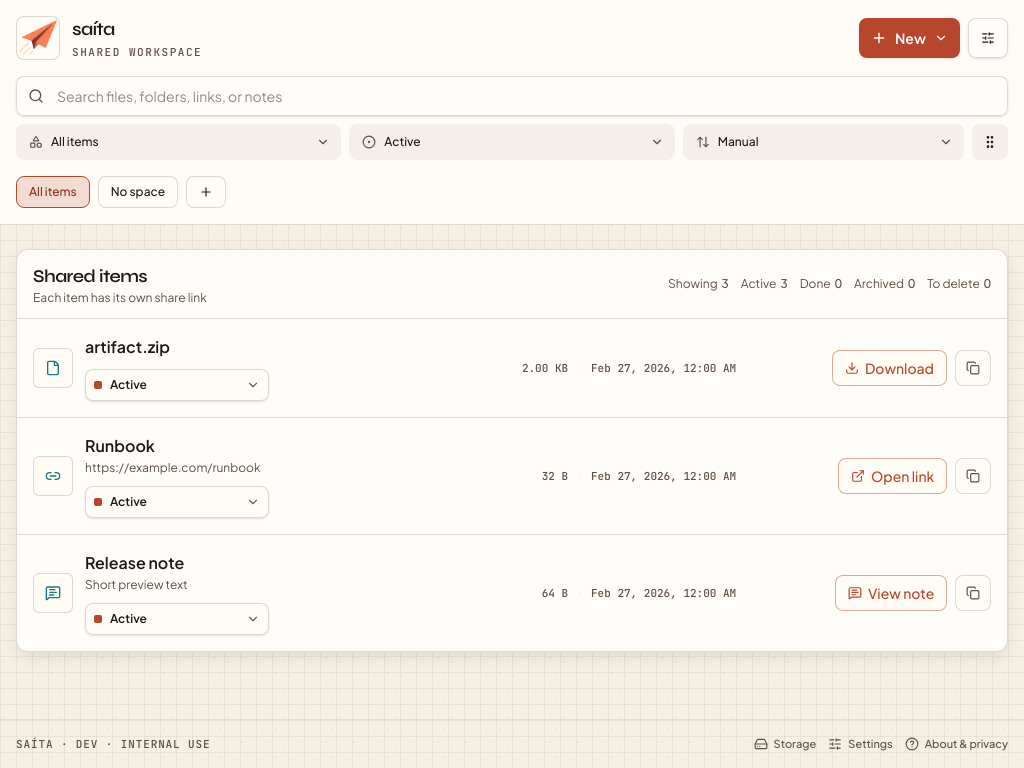
Scenario: shows kind-specific actions and loads full note text for preview
Expected: the text "artifact.zip" is shown, [85,336,170,357]
Expected: the button "Download" is shown, [832,350,947,386]
Click the button "View note" at (891, 593), box [835,575,947,611]
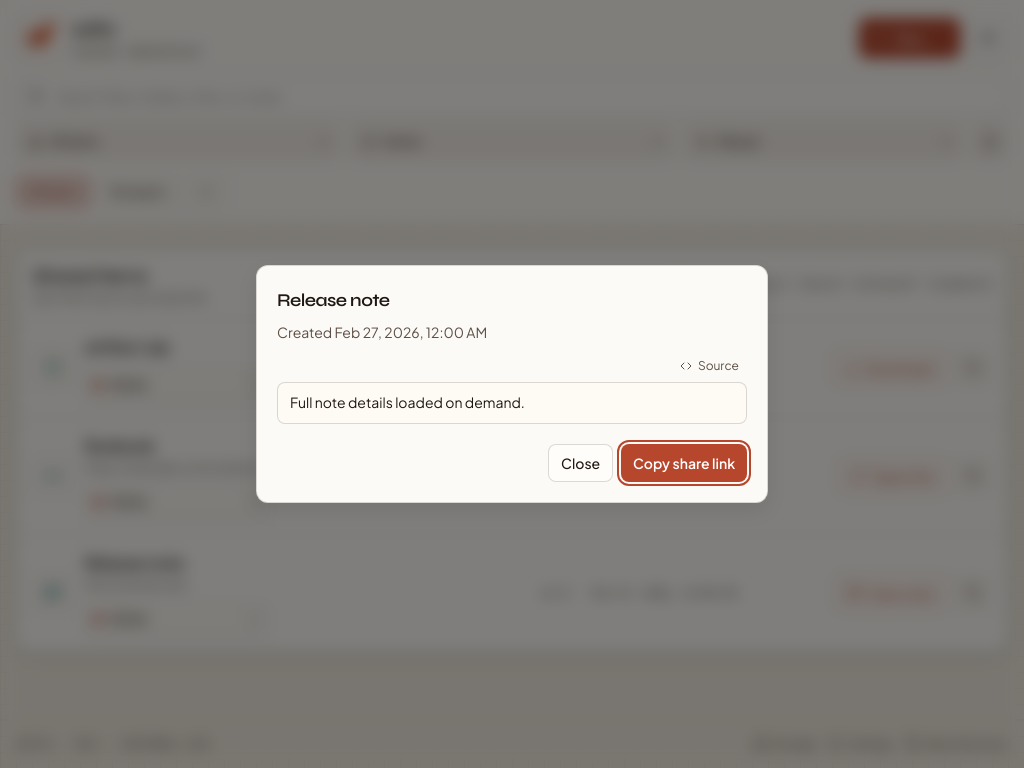
Result: the text "Full note details loaded on demand." is shown at [290,393,525,411]
